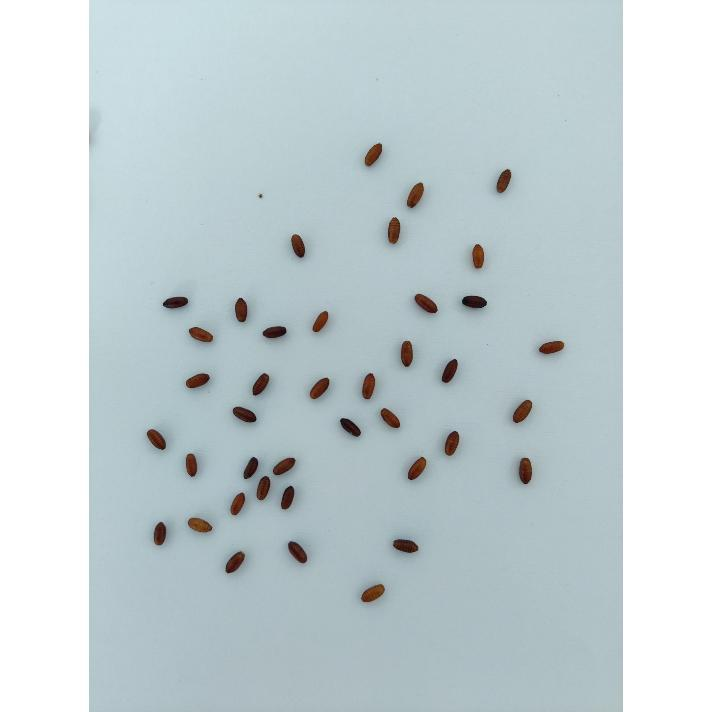pupae: (304, 370, 338, 406), (278, 231, 312, 266), (392, 337, 424, 373), (533, 332, 571, 362), (142, 421, 173, 457), (486, 160, 516, 196), (460, 238, 490, 274), (433, 355, 463, 391), (408, 288, 443, 318), (226, 294, 253, 332), (358, 138, 388, 172), (247, 367, 275, 403), (181, 367, 217, 395), (356, 366, 382, 404), (226, 400, 260, 428), (382, 215, 406, 254), (256, 321, 292, 347), (455, 288, 491, 314), (402, 180, 432, 210), (305, 309, 337, 337), (184, 321, 218, 347), (270, 451, 304, 477), (178, 446, 205, 478), (159, 290, 193, 314), (359, 580, 389, 606), (512, 394, 534, 428), (388, 535, 422, 557), (402, 457, 430, 483), (219, 549, 247, 575), (443, 428, 465, 459), (284, 540, 312, 564), (335, 418, 365, 440), (186, 514, 216, 536), (379, 404, 403, 430), (278, 482, 298, 512), (226, 491, 246, 518), (518, 454, 534, 486), (150, 520, 168, 548), (255, 472, 271, 502), (241, 455, 259, 481)
